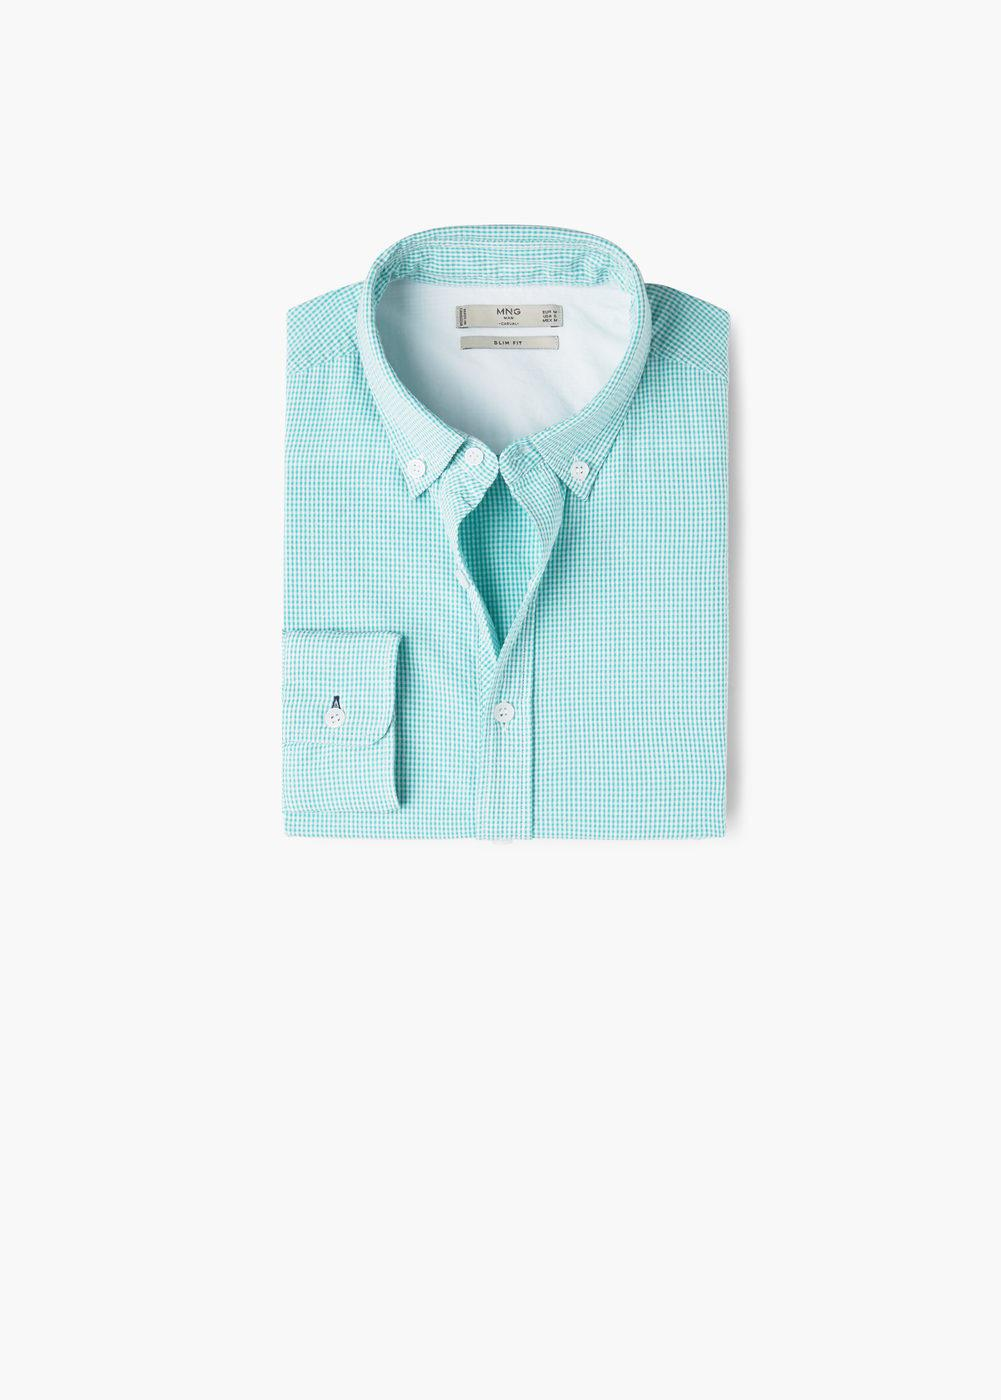teeshirt: (233, 215, 765, 859)
